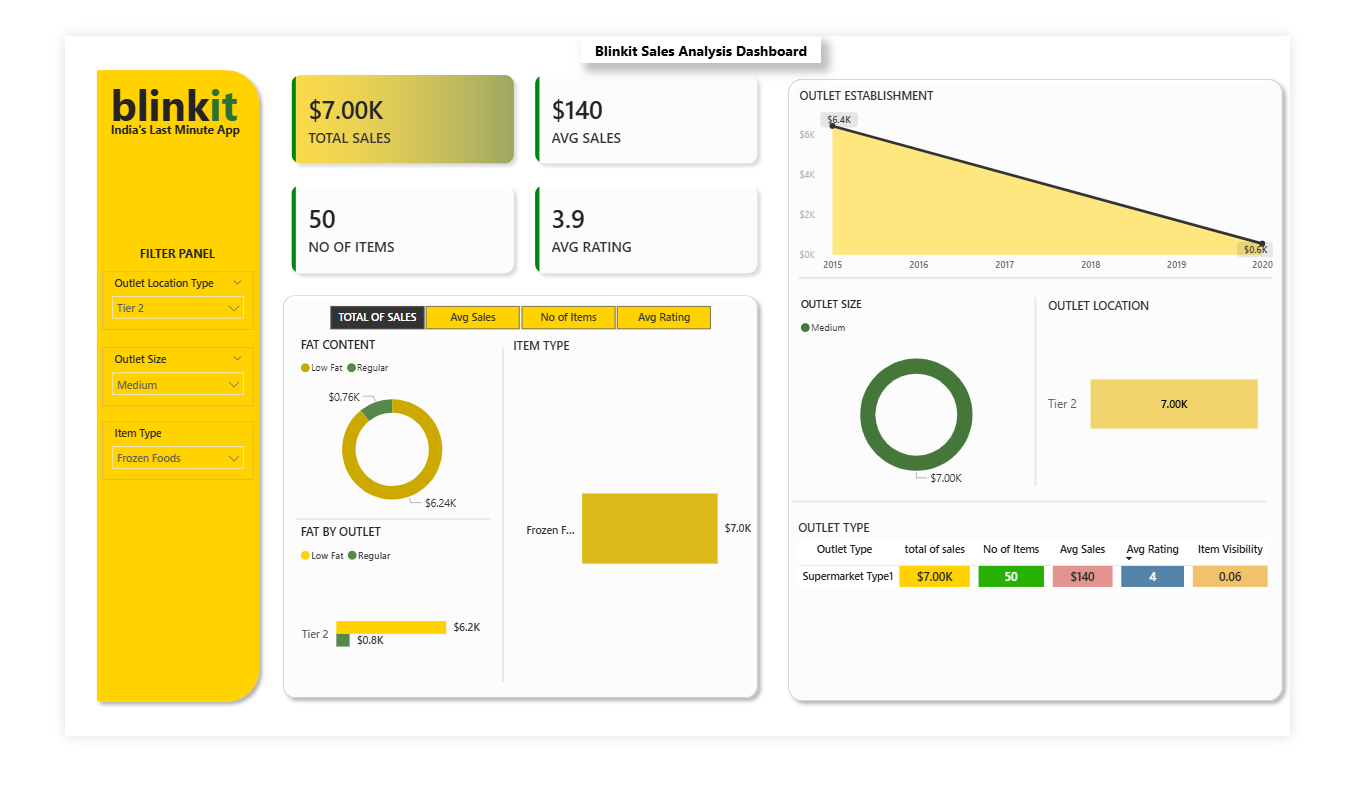

This screenshot's page, from the dashboard's own definition file:
{"tool":"powerbi","page":{"name":"Page 1","canvas":[1400,800],"ordinal":0},"visuals":[{"type":"shape","box":[26.8,29.5,203.8,740],"z":0},{"type":"textbox","box":[46.9,40.2,163.5,80.4],"z":1000},{"type":"textbox","box":[46.9,92.5,166.2,28.2],"z":2000},{"type":"cardVisual","fields":{"Data":["BlinkIT Grocery Data.total of sales","BlinkIT Grocery Data.Avg Sales","BlinkIT Grocery Data.No of Items","BlinkIT Grocery Data.Avg Rating"]},"box":[230.5,16.2,591.6,285.7],"z":3000},{"type":"shape","box":[239.9,287.1,560.6,478.4],"z":4000},{"type":"donutChart","title":"FAT CONTENT","fields":{"Y":["BlinkIT Grocery Data.total of sales"],"Category":["BlinkIT Grocery Data.Item Fat Content"]},"box":[264.2,342.3,219.7,214.3],"z":5000},{"type":"slicer","fields":{"Values":["Metrics.Metrics"]},"box":[277.6,301.9,485.2,40.4],"z":6000},{"type":"clusteredBarChart","title":"FAT BY OUTLET","fields":{"Y":["BlinkIT Grocery Data.total of sales"],"Category":["BlinkIT Grocery Data.Outlet Location Type"],"Series":["BlinkIT Grocery Data.Item Fat Content"]},"box":[264.2,556.6,219.7,200.8],"z":7000},{"type":"shape","box":[264.2,527,222.4,49.9],"z":8000},{"type":"shape","box":[483.8,355.8,32.3,382.8],"z":9000},{"type":"barChart","title":"ITEM TYPE","fields":{"Y":["BlinkIT Grocery Data.total of sales"],"Category":["BlinkIT Grocery Data.Item Type"]},"box":[506.7,343.7,284.4,416.4],"z":10000},{"type":"shape","box":[816.7,40.4,583.6,729.1],"z":11000},{"type":"lineChart","title":"OUTLET  ESTABLISHMENT","fields":{"Y":["BlinkIT Grocery Data.total of sales"],"Category":["BlinkIT Grocery Data.Outlet Establishment Year"]},"box":[834.2,58,551.2,219.7],"z":12000},{"type":"shape","box":[838.3,252,541.8,49.9],"z":13000},{"type":"donutChart","title":"OUTLET SIZE","fields":{"Y":["BlinkIT Grocery Data.total of sales"],"Category":["BlinkIT Grocery Data.Outlet Size"]},"box":[835.6,299.2,274.9,225.1],"z":14000},{"type":"shape","box":[1093,299.2,32.3,215.6],"z":15000},{"type":"funnel","title":" OUTLET LOCATION","fields":{"Y":["Sum(BlinkIT Grocery Data.Sales)"],"Category":["BlinkIT Grocery Data.Outlet Location Type"]},"box":[1118.6,299.2,254.7,225.1],"z":16000},{"type":"shape","box":[831.5,506.7,541.8,49.9],"z":17000},{"type":"pivotTable","title":"OUTLET TYPE","fields":{"Rows":["BlinkIT Grocery Data.Outlet Type"],"Values":["BlinkIT Grocery Data.total of sales","BlinkIT Grocery Data.No of Items","BlinkIT Grocery Data.Avg Sales","BlinkIT Grocery Data.Avg Rating","Avg(BlinkIT Grocery Data.Item Visibility)"]},"box":[832.9,552.6,553.9,186],"z":18000},{"type":"slicer","fields":{"Values":["BlinkIT Grocery Data.Outlet Location Type"]},"box":[43.1,268.2,172.5,67.4],"z":19000},{"type":"slicer","fields":{"Values":["BlinkIT Grocery Data.Outlet Size"]},"box":[43.1,355.8,172.5,67.4],"z":20000},{"type":"slicer","fields":{"Values":["BlinkIT Grocery Data.Item Type"]},"box":[43.1,439.4,172.5,67.4],"z":21000},{"type":"textbox","box":[75.5,234.5,105.1,35],"z":22000},{"type":"shape","box":[590.3,1.3,273.6,29.6],"z":23000}]}

Visuals, with their boxes in screenshot pixels (x1, y1, x2, y2), scaled from the page's 1400x800 canvas onto the 1372x786 screenshot:
shape: crop(26, 29, 226, 756)
textbox: crop(46, 39, 206, 118)
textbox: crop(46, 91, 209, 119)
cardVisual - BlinkIT Grocery Data.total of sales x BlinkIT Grocery Data.Avg Sales: crop(226, 16, 806, 297)
shape: crop(235, 282, 784, 752)
"FAT CONTENT" donutChart: crop(259, 336, 474, 547)
slicer - Metrics.Metrics: crop(272, 297, 748, 336)
"FAT BY OUTLET" clusteredBarChart: crop(259, 547, 474, 744)
shape: crop(259, 518, 477, 567)
shape: crop(474, 350, 506, 726)
"ITEM TYPE" barChart: crop(497, 338, 775, 747)
shape: crop(800, 40, 1371, 756)
"OUTLET  ESTABLISHMENT" lineChart: crop(818, 57, 1358, 273)
shape: crop(822, 248, 1352, 297)
"OUTLET SIZE" donutChart: crop(819, 294, 1088, 515)
shape: crop(1071, 294, 1103, 506)
" OUTLET LOCATION" funnel: crop(1096, 294, 1346, 515)
shape: crop(815, 498, 1346, 547)
"OUTLET TYPE" pivotTable: crop(816, 543, 1359, 726)
slicer - BlinkIT Grocery Data.Outlet Location Type: crop(42, 264, 211, 330)
slicer - BlinkIT Grocery Data.Outlet Size: crop(42, 350, 211, 416)
slicer - BlinkIT Grocery Data.Item Type: crop(42, 432, 211, 498)
textbox: crop(74, 230, 177, 265)
shape: crop(578, 1, 847, 30)
